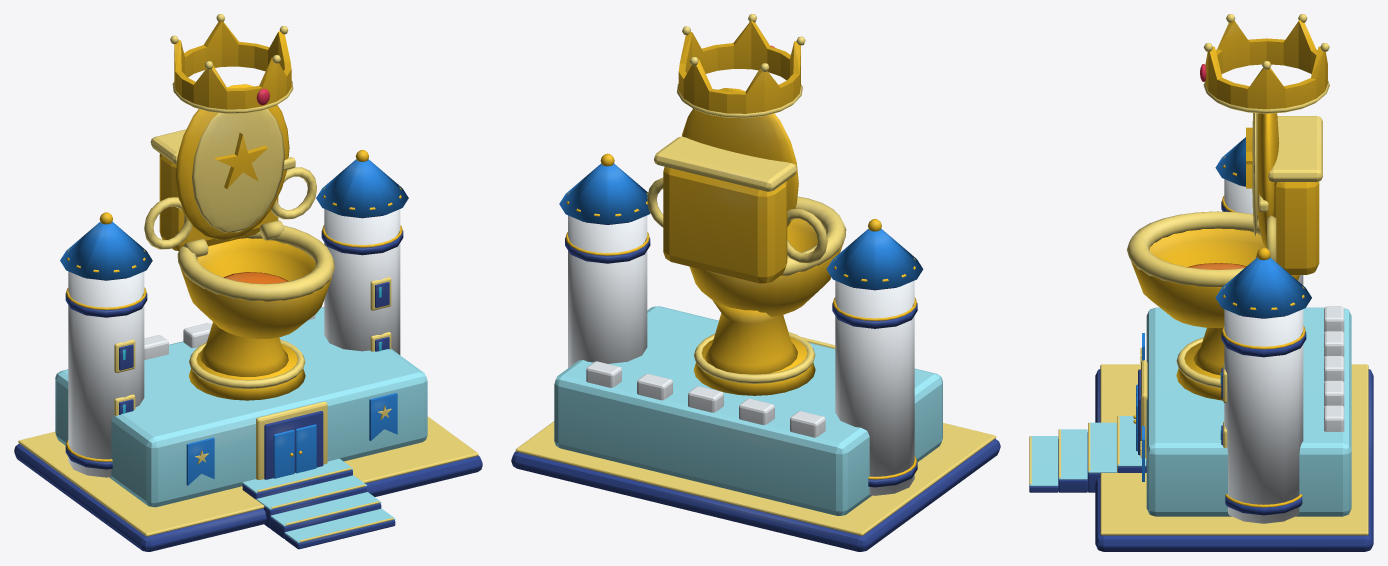
Rendered from ToiletCastle.fbx.
3 views of the same model, side by side, from view 1: azimuth 30°, elevation 25°; view 2: azimuth 150°, elevation 25°; view 3: azimuth 270°, elevation 25° (orthographic). The views are drawn at different scales.
Visible parts, largest first — view 1: ToiletCastle; view 2: ToiletCastle; view 3: ToiletCastle.
Boxes of the visible parts, box(x1,y1,x2,y2) form: ToiletCastle: box(14, 14, 482, 551); ToiletCastle: box(511, 14, 1000, 551); ToiletCastle: box(1029, 14, 1373, 551).
Size of the model in its own units: 28 by 32.63 by 23.5.
Materials: 1 (1 with a texture image).
